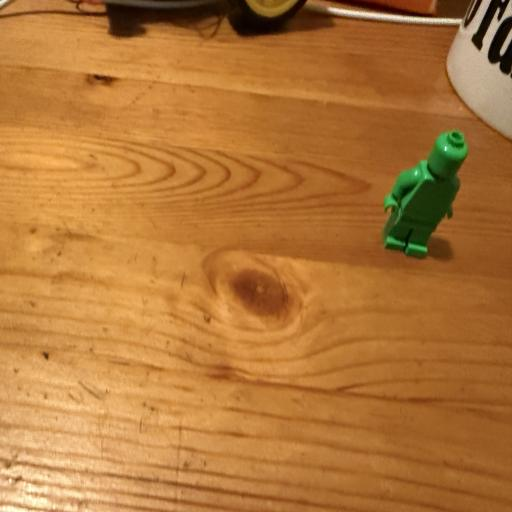Minifig: (382, 130, 468, 258)
